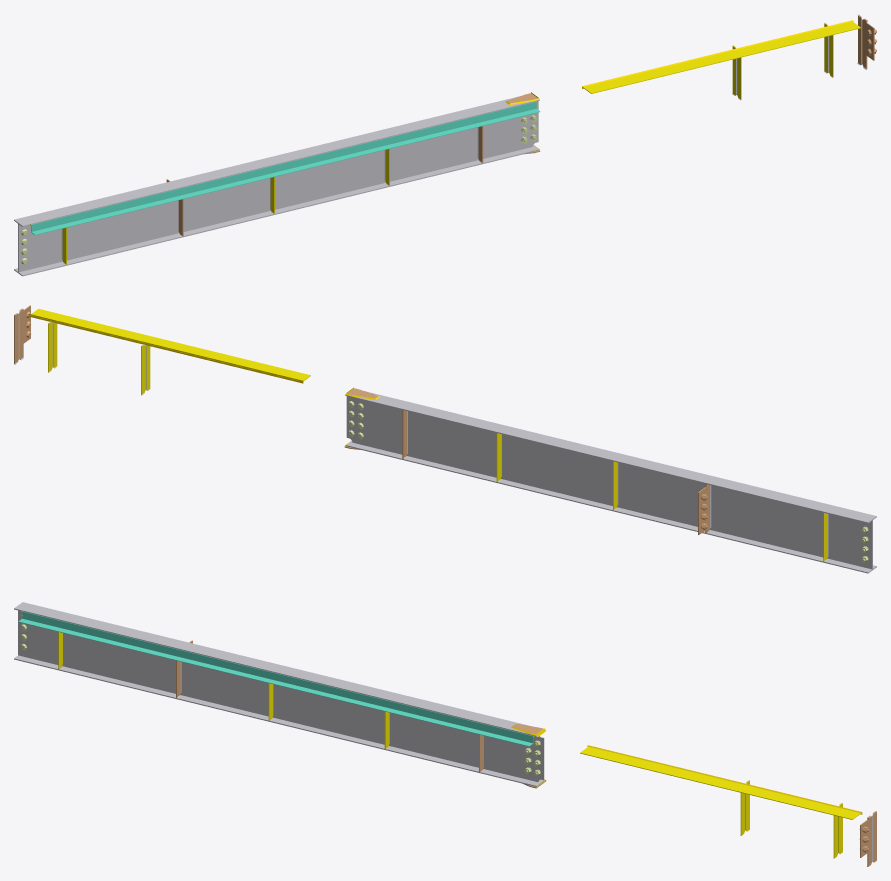
3 renders of one model, top to bottom at view 1: azimuth 30°, elevation 25°; view 2: azimuth 150°, elevation 25°; view 3: azimuth 330°, elevation 25°, orthographic.
Parts seen in each view (by area): view 1: 18-6GL, 6L, 6PL, WELD; view 2: 18-6GL, 6PL, WELD; view 3: 18-6GL, 6L, 6PL, WELD.
Part boxes in pixels (x1=…): 18-6GL: x1=14, y1=96, x2=539, y2=276; 6L: x1=31, y1=101, x2=540, y2=235; 6PL: x1=583, y1=21, x2=860, y2=93; WELD: x1=582, y1=20, x2=853, y2=88; 18-6GL: x1=345, y1=391, x2=876, y2=573; 6PL: x1=29, y1=309, x2=310, y2=382; WELD: x1=28, y1=314, x2=303, y2=383; 18-6GL: x1=14, y1=602, x2=544, y2=786; 6L: x1=18, y1=611, x2=533, y2=746; 6PL: x1=580, y1=746, x2=860, y2=819; WELD: x1=587, y1=745, x2=862, y2=814.
Bounding box in the file's own units: 7.39 × 0.4437 × 0.3501.
